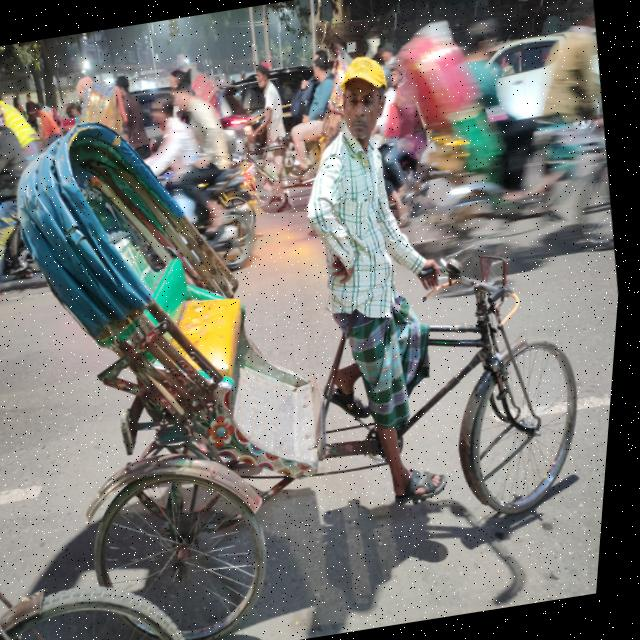rikshaw: (0, 26, 638, 640)
